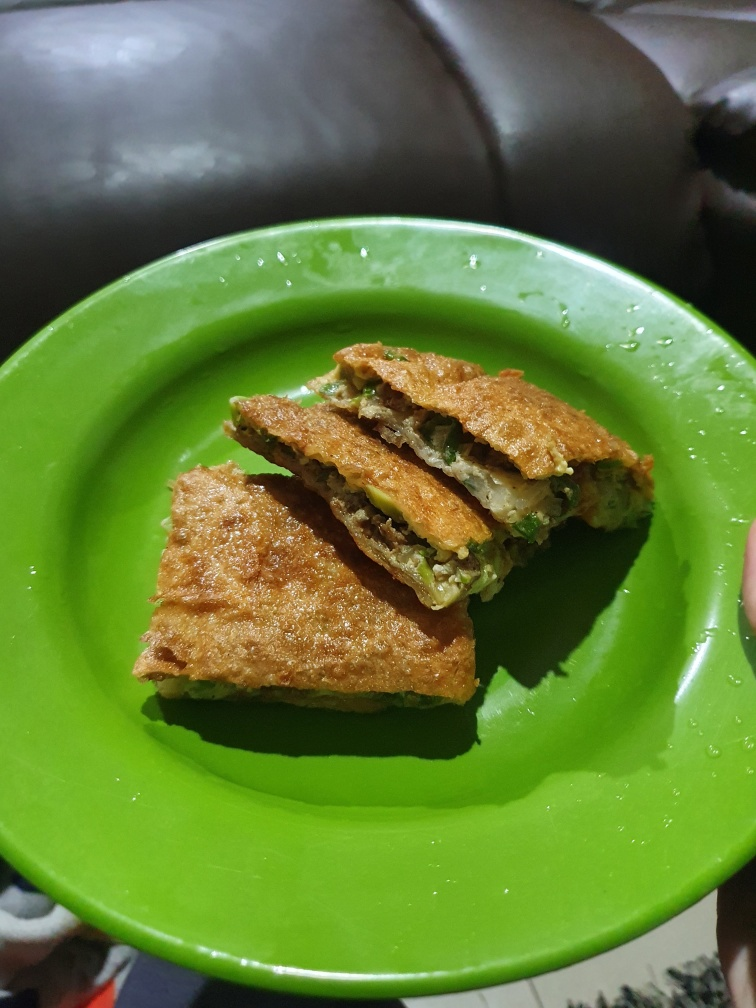martabak telor: (142, 450, 524, 730), (320, 300, 680, 539), (221, 364, 557, 608)
